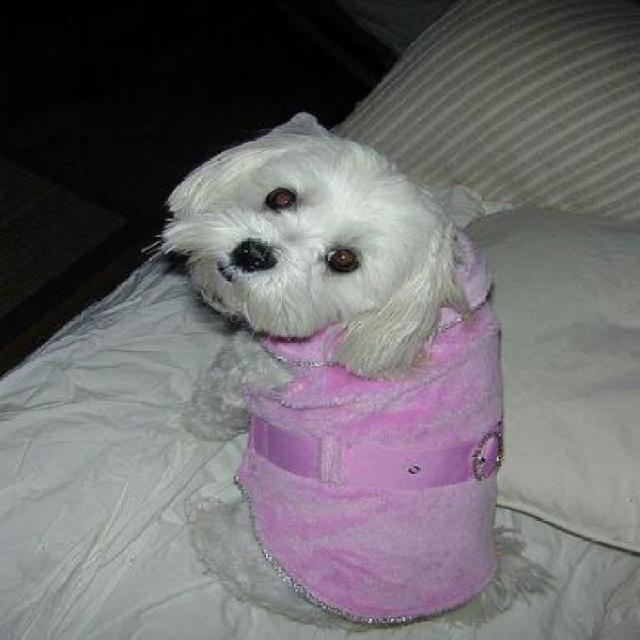Dog: (138, 117, 558, 638)
